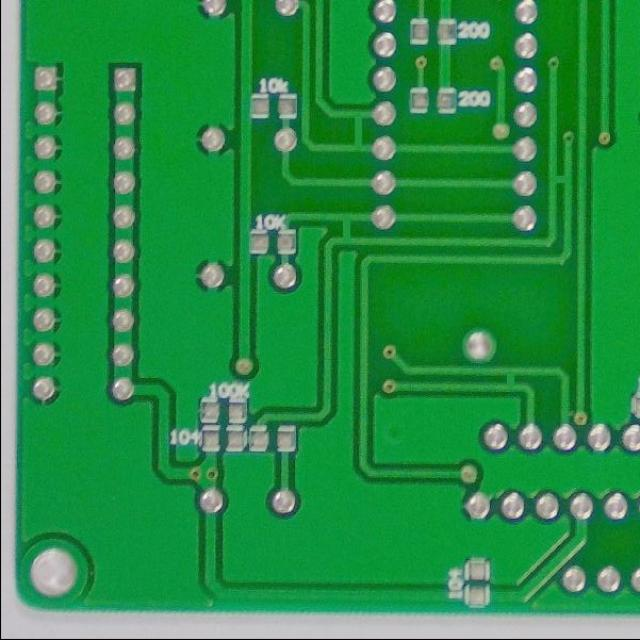short: (343, 105, 373, 162), (328, 210, 357, 250), (543, 165, 574, 197), (496, 363, 521, 398)
